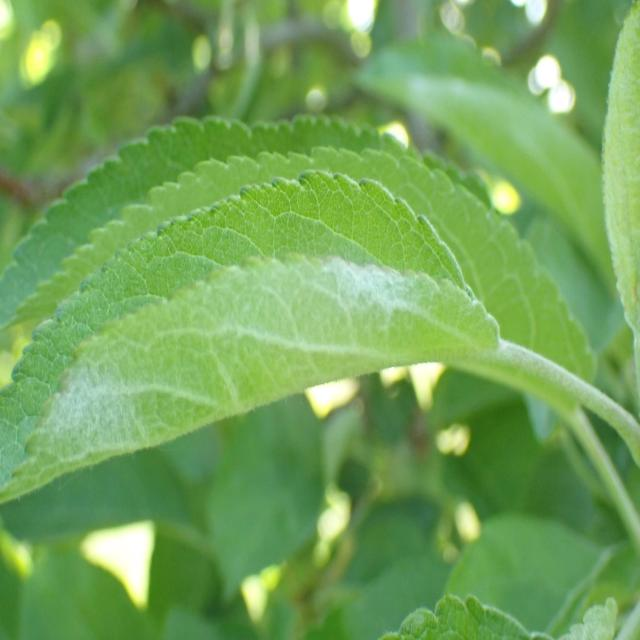Powdery_mildew: (18, 260, 523, 466), (545, 0, 640, 352)
